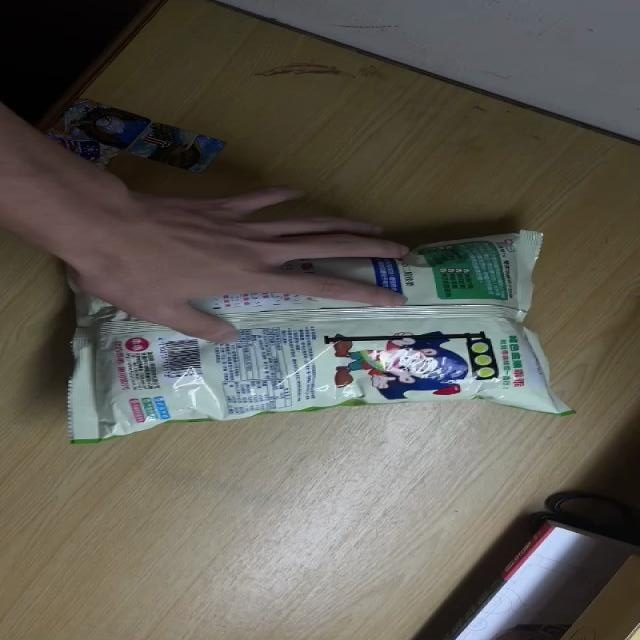Good-Luck: (66, 229, 578, 444)
